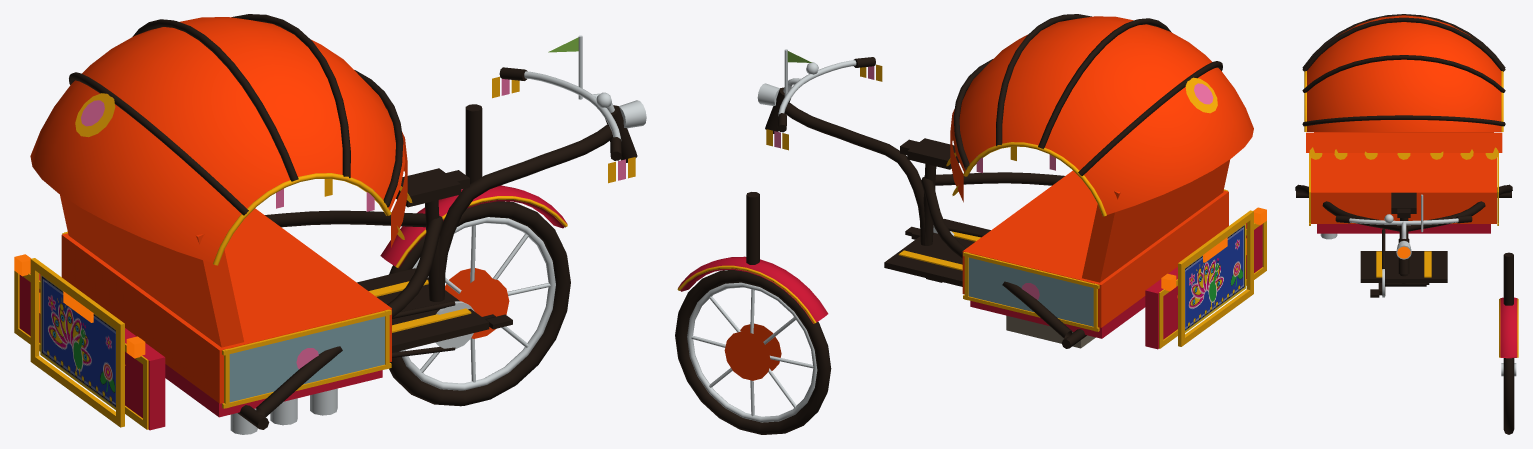
The picture shows the model from 3 angles, left to right: view 1: azimuth 30°, elevation 25°; view 2: azimuth 150°, elevation 25°; view 3: azimuth 270°, elevation 25°; orthographic projection. The views are drawn at different scales.
Parts seen in each view (by area): view 1: bodyPainted, common, wheel, artBoard, wheelGuard, wheelPainted, wheelSuspension, cellsCage.001; view 2: bodyPainted, common, wheel, artBoard, wheelGuard, wheelPainted, wheelSuspension, energy; view 3: bodyPainted, common, wheelGuard, wheel, wheelSuspension.
Boxes of the visible parts, left/top/right/bottom form: bodyPainted: left=30, top=17, right=407, bottom=403; common: left=14, top=14, right=646, bottom=430; wheel: left=389, top=201, right=570, bottom=406; artBoard: left=40, top=274, right=115, bottom=409; wheelGuard: left=380, top=185, right=567, bottom=268; wheelPainted: left=445, top=268, right=509, bottom=338; wheelSuspension: left=465, top=104, right=482, bottom=184; cellsCage.001: left=310, top=388, right=337, bottom=415; bodyPainted: left=950, top=16, right=1253, bottom=327; common: left=757, top=14, right=1266, bottom=349; wheel: left=675, top=270, right=831, bottom=434; artBoard: left=1185, top=224, right=1245, bottom=332; wheelGuard: left=677, top=256, right=828, bottom=323; wheelPainted: left=724, top=323, right=781, bottom=380; wheelSuspension: left=746, top=192, right=759, bottom=264; energy: left=1006, top=315, right=1095, bottom=348; bodyPainted: left=1306, top=15, right=1502, bottom=223; common: left=1295, top=14, right=1512, bottom=297; wheelGuard: left=1499, top=297, right=1518, bottom=358; wheel: left=1501, top=358, right=1516, bottom=434; wheelSuspension: left=1503, top=252, right=1513, bottom=305.
Size of the model in its own units: 2.72 by 2.26 by 1.49.
Materials: 6 (2 with a texture image).
